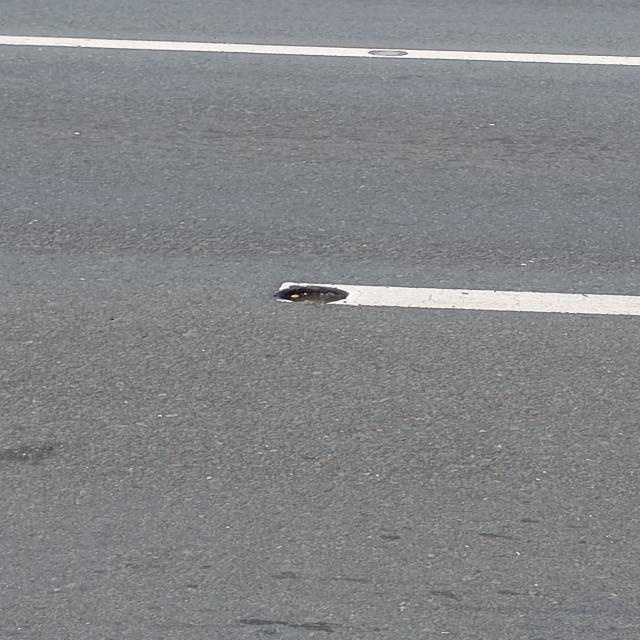pothole: (155, 208, 580, 408)
